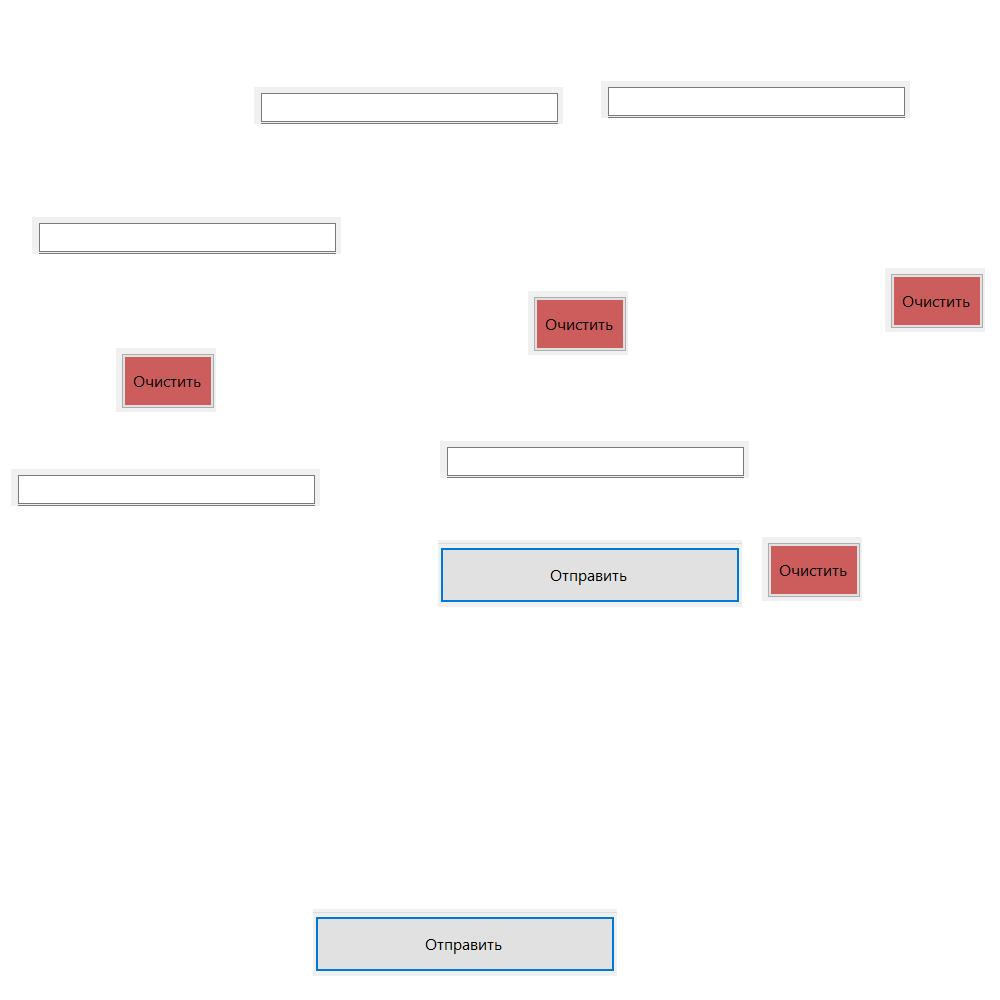Button: (438, 540, 742, 607), (313, 909, 617, 976), (528, 291, 628, 355), (116, 348, 216, 412), (885, 268, 985, 332), (762, 537, 862, 601)
EditText-: (32, 217, 341, 254), (11, 469, 320, 506), (440, 441, 749, 478), (601, 81, 910, 118), (254, 87, 563, 124)
